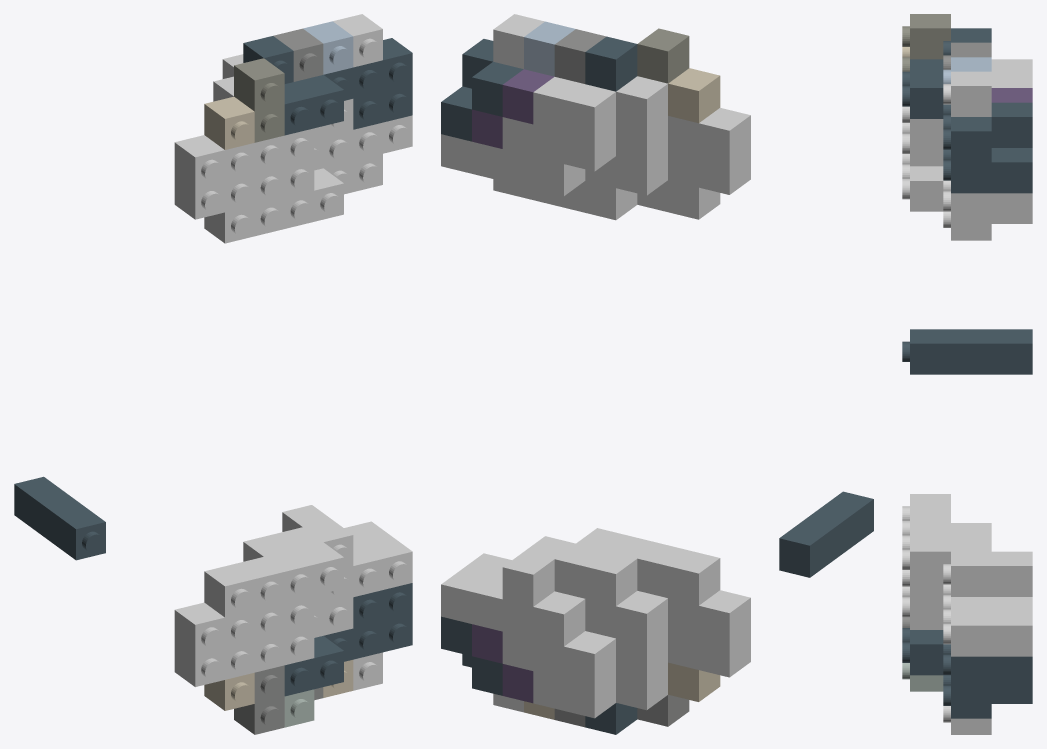
Rendered from full.glb.
3 renders of one model, left to right at view 1: azimuth 30°, elevation 25°; view 2: azimuth 150°, elevation 25°; view 3: azimuth 270°, elevation 25°, orthographic. The views are drawn at different scales.
Parts seen in each view (by area): view 1: world; view 2: world; view 3: world.
Part boxes in pixels (x1,y1,x2,y2): world: (14, 14, 412, 734); world: (441, 14, 873, 734); world: (902, 14, 1032, 734).
Size of the model in its own units: 96 by 168 by 30.6.
